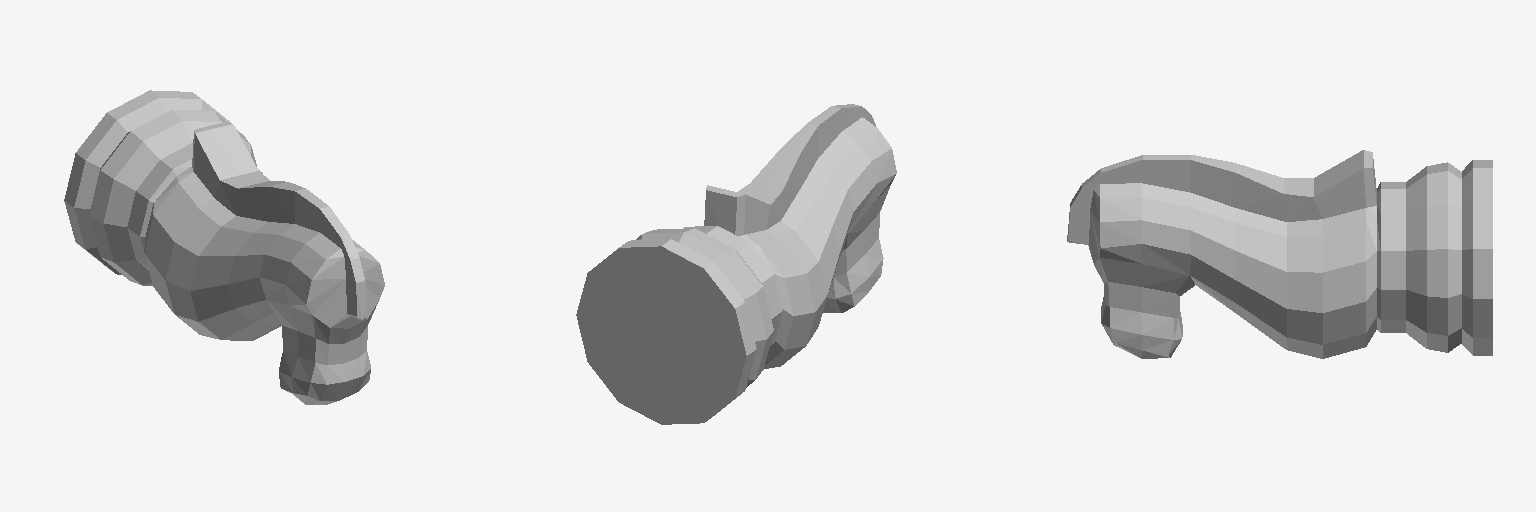
Rendered from Knight.obj.
The picture shows the model from 3 angles: view 1: azimuth 30°, elevation 25°; view 2: azimuth 150°, elevation 25°; view 3: azimuth 270°, elevation 25°; orthographic projection.
Visible parts, largest first — view 1: Knight PiezasAjedrez:Mesh; view 2: Knight PiezasAjedrez:Mesh; view 3: Knight PiezasAjedrez:Mesh.
Part boxes in pixels (left/top/right/bottom): Knight PiezasAjedrez:Mesh: left=64, top=90, right=384, bottom=404; Knight PiezasAjedrez:Mesh: left=576, top=104, right=896, bottom=424; Knight PiezasAjedrez:Mesh: left=1067, top=150, right=1492, bottom=358.
Size of the model in its own units: 3.32 by 3.67 by 7.18.